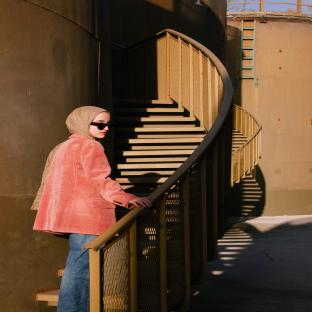Human: (32, 106, 152, 312)
